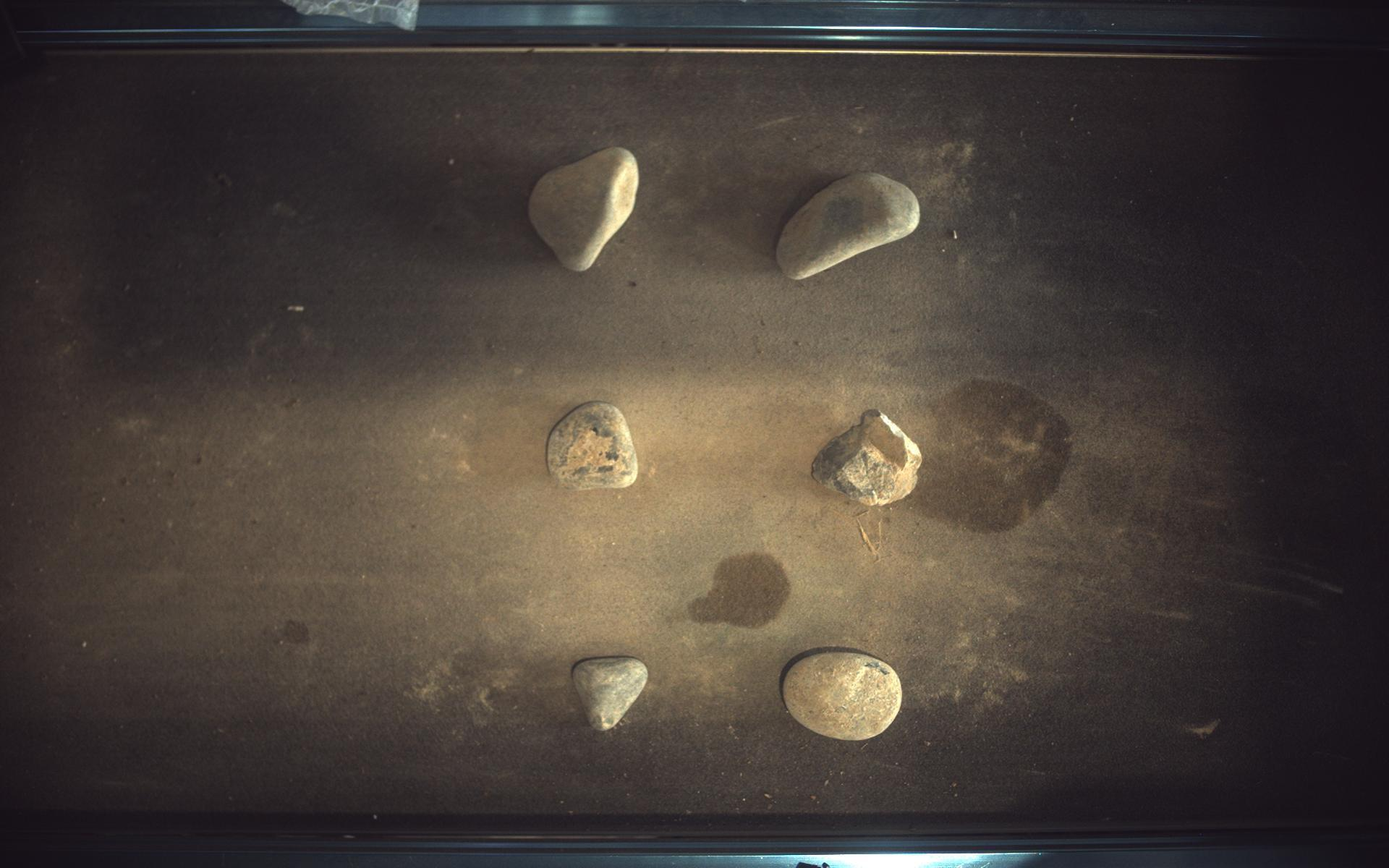stone: (778, 172, 922, 279), (529, 146, 640, 271), (781, 649, 904, 742), (813, 409, 924, 506), (548, 401, 639, 490), (573, 659, 648, 732)
